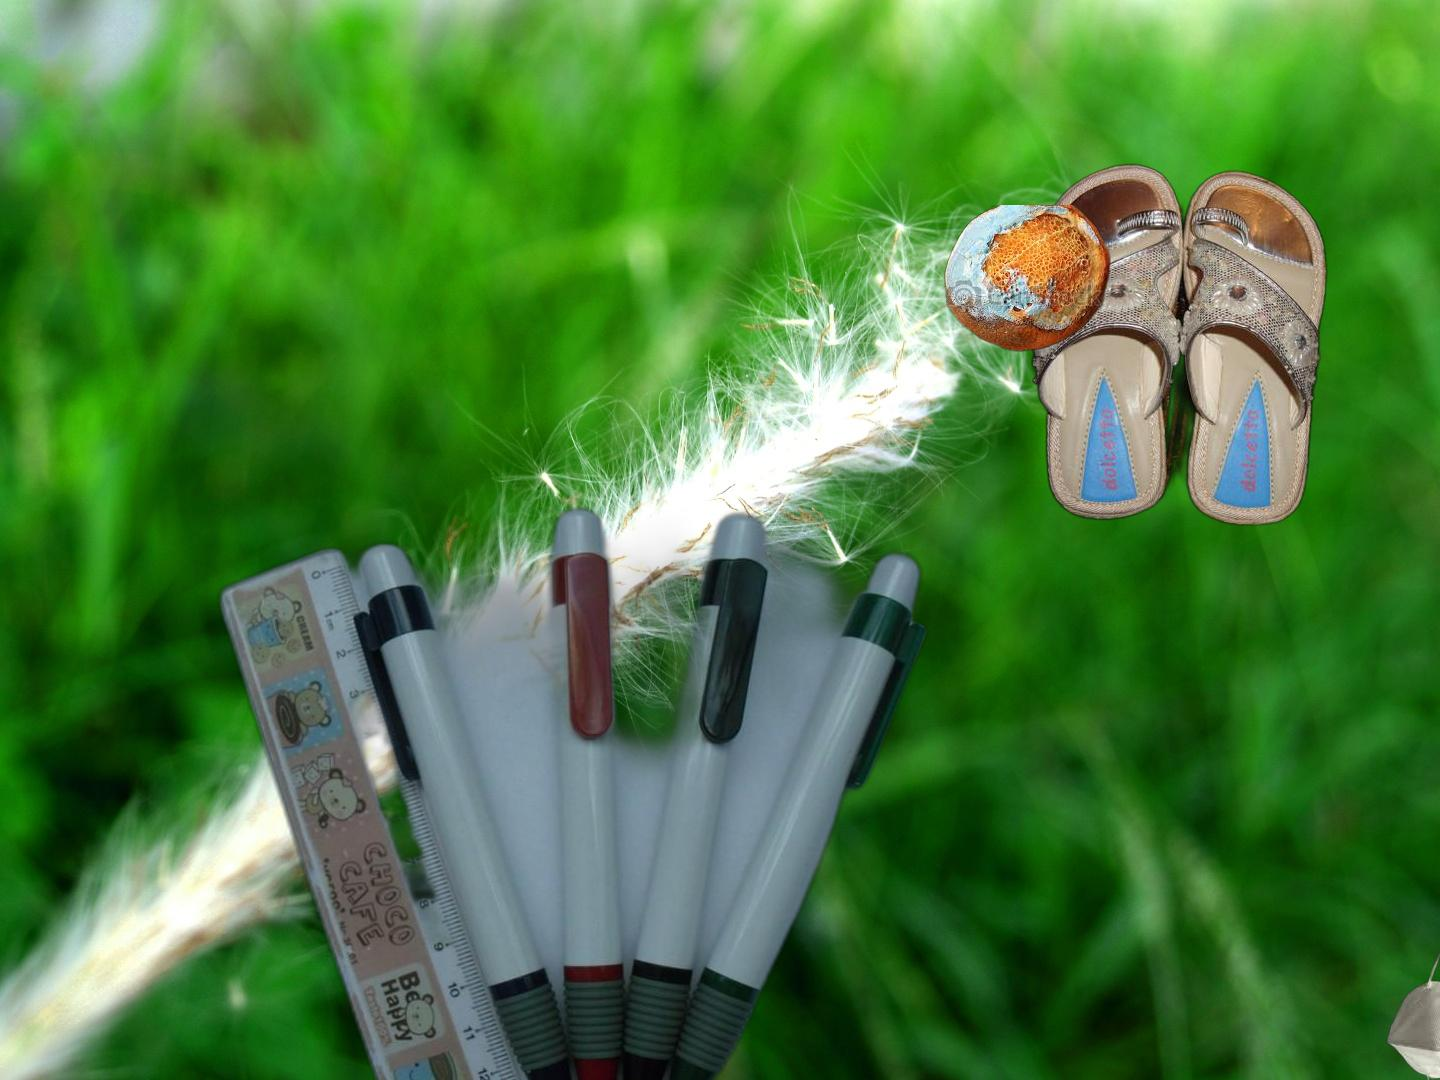biological: (942, 205, 1113, 354)
clothes: (1027, 161, 1331, 529)
penholder: (211, 489, 935, 1080)
trash: (1384, 929, 1440, 1080)
